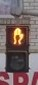stop: (4, 25, 30, 51)
